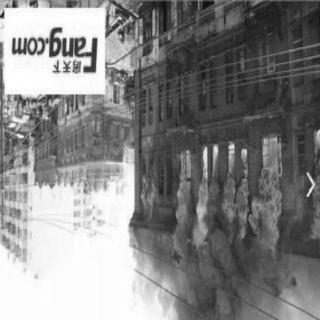Fire: (139, 142, 283, 248), (304, 128, 318, 252)
Smoke: (126, 226, 320, 318)
